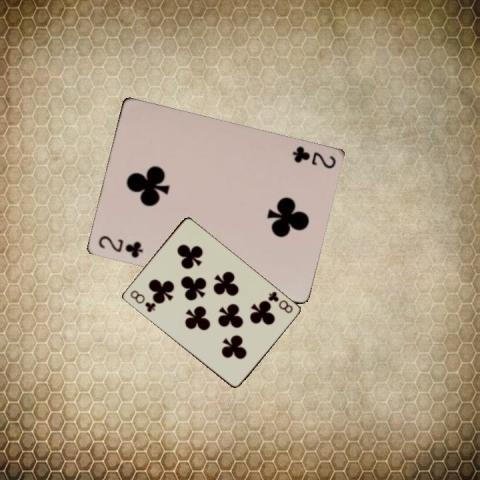2c: (288, 142, 336, 170), (95, 233, 144, 259)
8c: (126, 287, 156, 314), (265, 288, 294, 314)
